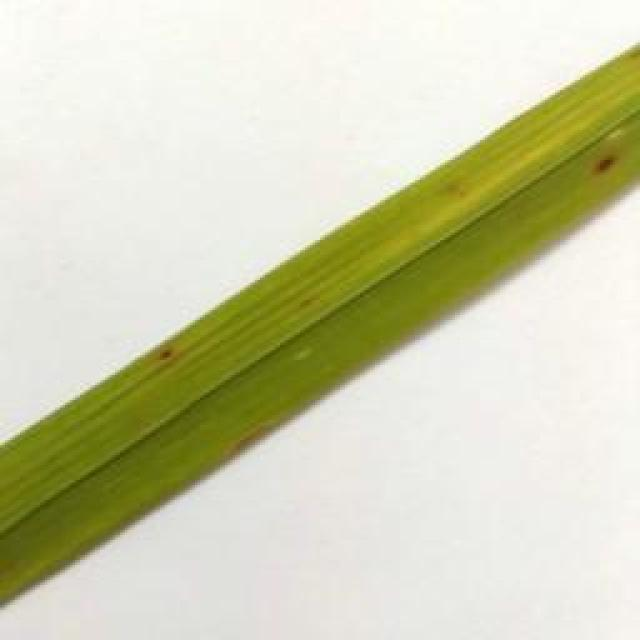Brown_Spot: (585, 145, 629, 185), (237, 432, 282, 455), (437, 180, 473, 207), (145, 346, 183, 371), (292, 294, 328, 310)
